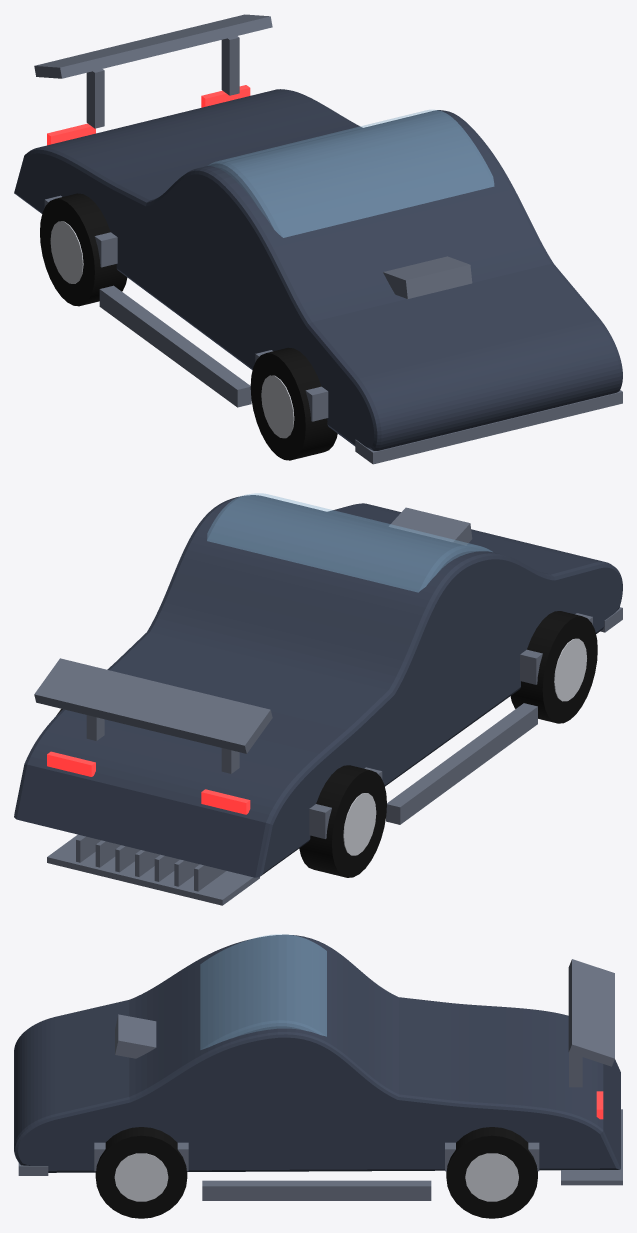
Rendered from car.glb.
3 views of the same model, one above another, from view 1: azimuth 30°, elevation 25°; view 2: azimuth 150°, elevation 25°; view 3: azimuth 270°, elevation 25° (orthographic). The views are drawn at different scales.
Parts seen in each view (by area): view 1: Body, Body_Glass, Body_Tire (×2), Part_Spoiler (×3), Part_SideSkirt, Part_FrontLip, Body_Rim (×2), Part_AirIntake, Part_WideBody (×2); view 2: Body, Body_Glass, Part_Spoiler, Body_Tire (×2), Part_SideSkirt, Part_Diffuser, Body_Rim (×2), Part_AirIntake, Body_Lamp (×2), Part_WideBody (×2); view 3: Body, Body_Glass, Body_Tire (×2), Part_Spoiler (×2), Part_SideSkirt, Body_Rim (×2), Part_AirIntake, Part_Diffuser, Part_WideBody (×2).
Boxes of the visible parts, x1,y1,x2,y2 form: Body: (14, 89, 622, 450); Body_Glass: (208, 110, 493, 237); Body_Tire (×2): (40, 193, 337, 460); Part_Spoiler (×3): (34, 14, 272, 128); Part_SideSkirt: (99, 285, 251, 407); Part_FrontLip: (355, 390, 622, 464); Body_Rim (×2): (50, 221, 294, 438); Part_AirIntake: (383, 256, 472, 298); Part_WideBody (×2): (44, 195, 328, 421); Body: (14, 495, 622, 877); Body_Glass: (207, 493, 492, 592); Part_Spoiler: (34, 658, 272, 753); Body_Tire (×2): (299, 611, 597, 877); Part_SideSkirt: (386, 703, 537, 824); Part_Diffuser: (47, 834, 259, 905); Body_Rim (×2): (343, 638, 586, 855); Part_AirIntake: (389, 507, 472, 545); Body_Lamp (×2): (47, 751, 250, 814); Part_WideBody (×2): (309, 613, 592, 838); Body: (14, 934, 620, 1172); Body_Glass: (200, 934, 326, 1049); Body_Tire (×2): (95, 1127, 537, 1218); Part_Spoiler (×2): (568, 959, 614, 1087); Part_SideSkirt: (202, 1180, 431, 1200); Body_Rim (×2): (114, 1153, 518, 1201); Part_AirIntake: (115, 1014, 156, 1058); Part_Diffuser: (561, 1109, 622, 1185); Part_WideBody (×2): (94, 1142, 539, 1171).
Size of the model in its own units: 2.14 by 1.49 by 4.52.
